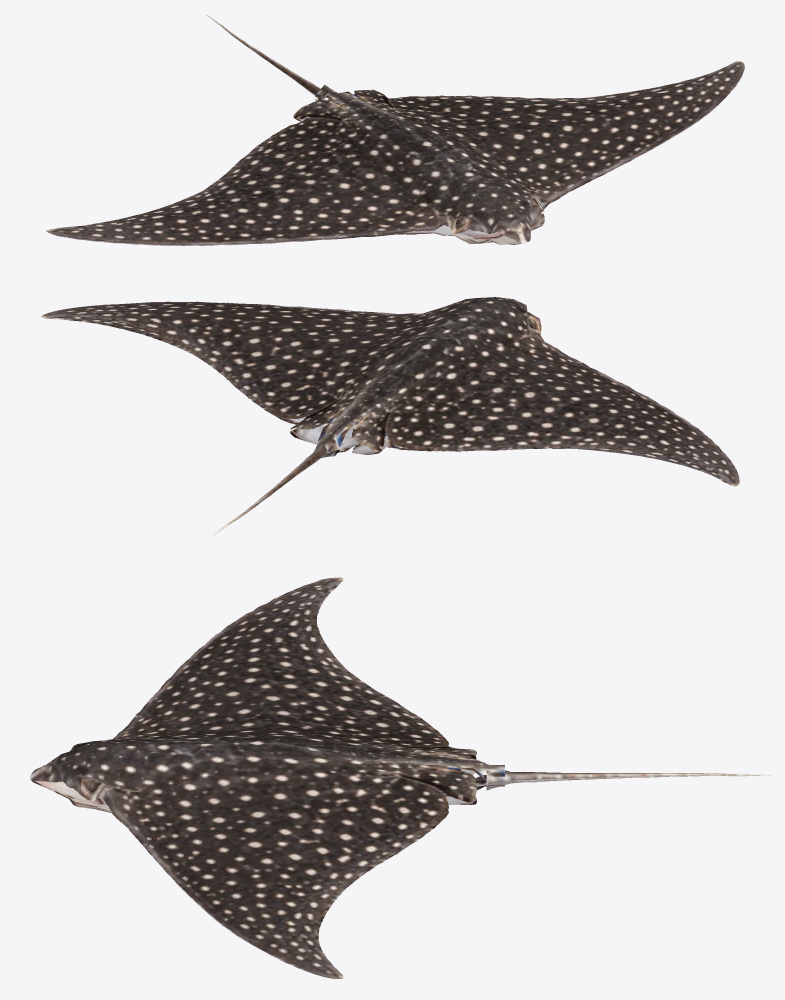
The model's file is ocean-eagleray.glb.
3 renders of one model, top to bottom at view 1: azimuth 30°, elevation 25°; view 2: azimuth 150°, elevation 25°; view 3: azimuth 270°, elevation 25°, orthographic. The views are drawn at different scales.
Parts seen in each view (by area): view 1: eagle_ray; view 2: eagle_ray; view 3: eagle_ray.
Part boxes in pixels (bbox=[...]): eagle_ray: bbox=[46, 14, 744, 245]; eagle_ray: bbox=[41, 297, 739, 535]; eagle_ray: bbox=[30, 577, 770, 978].
Size of the model in its own units: 4.41 by 0.2719 by 3.35.
Materials: 1 (1 with a texture image).
